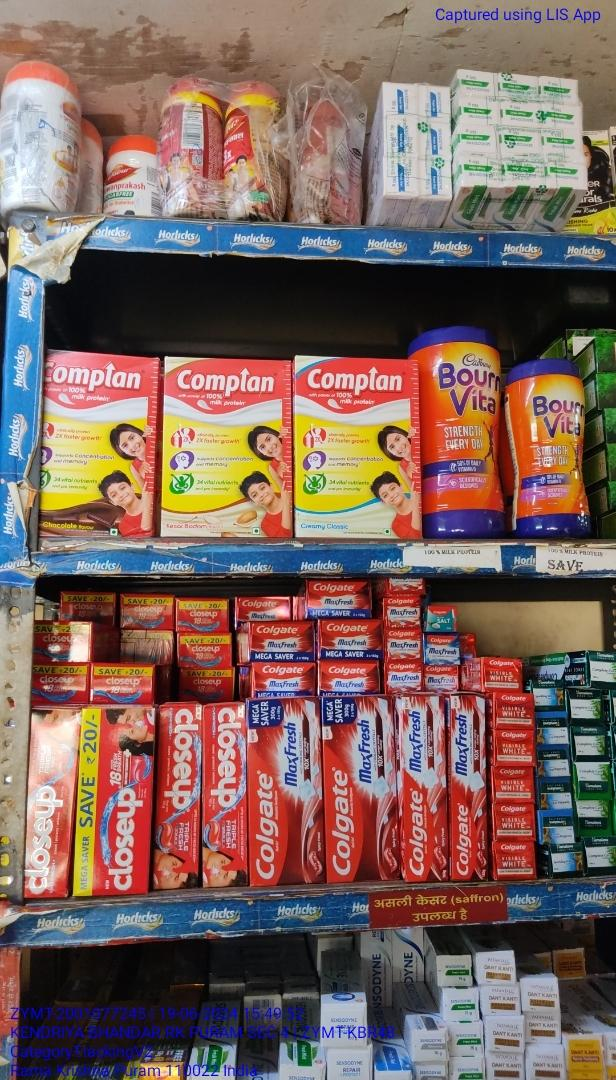BOURN_VITA_500_G_JAR: (428, 322, 506, 534), (517, 361, 593, 538)
COMPLAN_CREAMY_CLASSIC_500_G_PACK: (296, 356, 418, 541)
